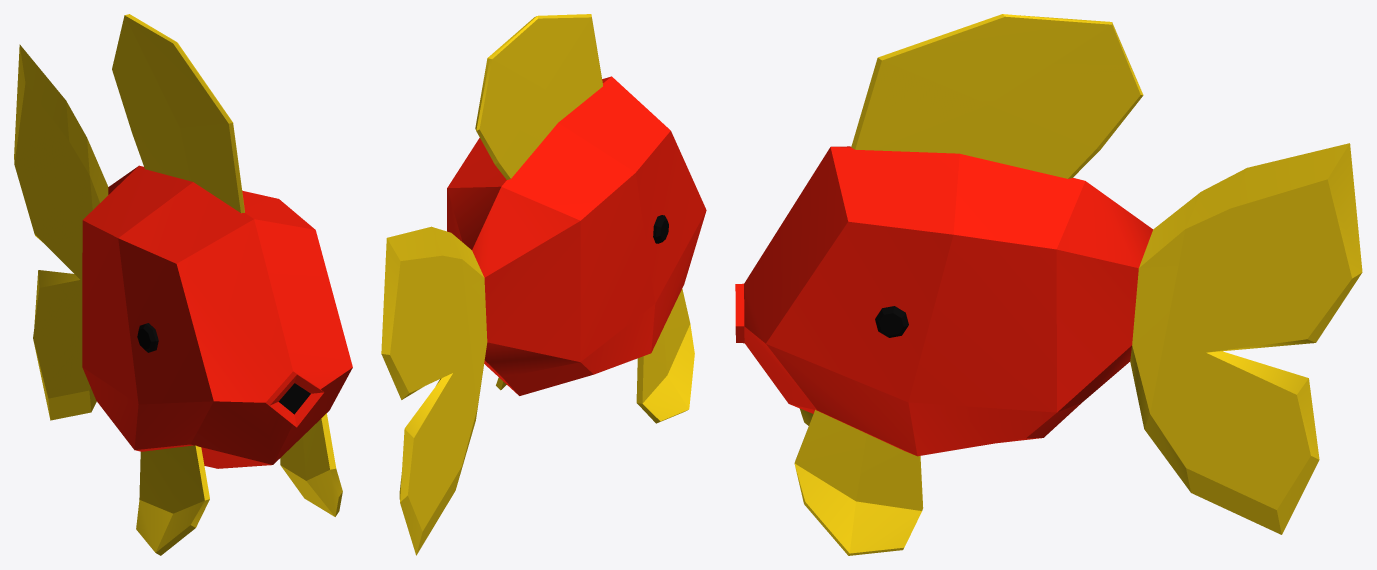
File: fish.obj
3 views of the same model, side by side, from view 1: azimuth 30°, elevation 25°; view 2: azimuth 150°, elevation 25°; view 3: azimuth 270°, elevation 25° (orthographic). The views are drawn at different scales.
Visible parts, largest first — view 1: Goldfish_01_Cube.058; view 2: Goldfish_01_Cube.058; view 3: Goldfish_01_Cube.058.
Boxes of the visible parts, <box> form: Goldfish_01_Cube.058: <box>14,14,352,555</box>; Goldfish_01_Cube.058: <box>381,14,706,555</box>; Goldfish_01_Cube.058: <box>735,14,1362,555</box>.
Bounding box in the file's own units: 4.73 × 11.58 × 12.63.
